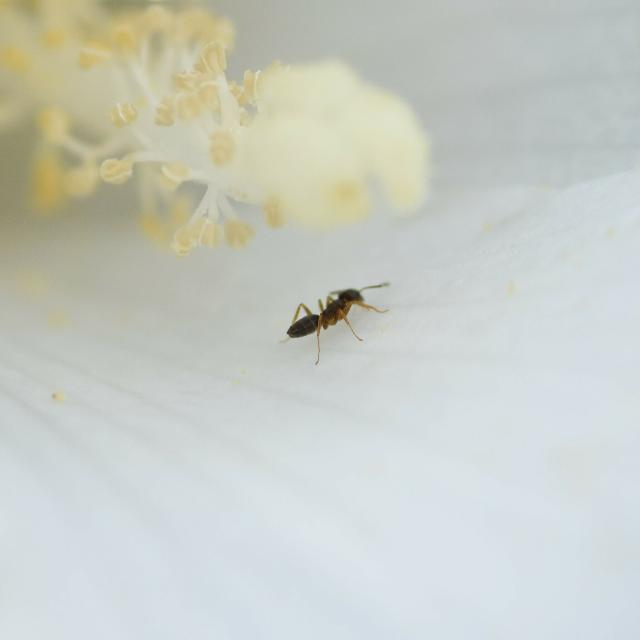Tapinoma: (278, 270, 384, 352)
